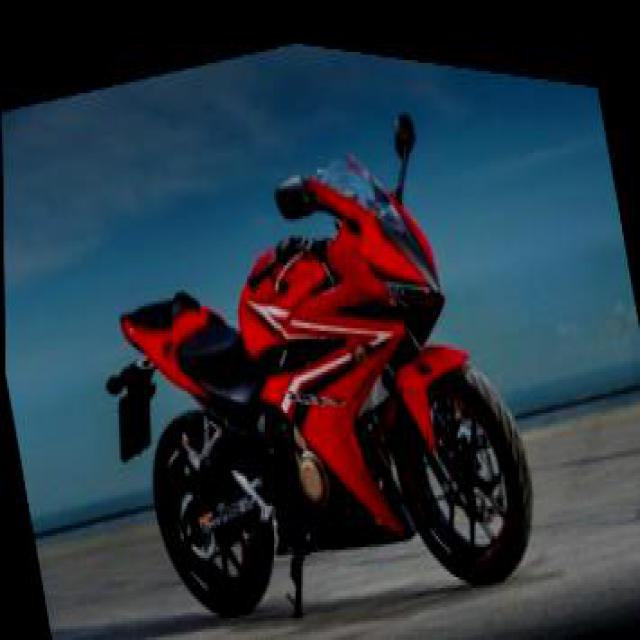CBR500R: (96, 66, 548, 637)
